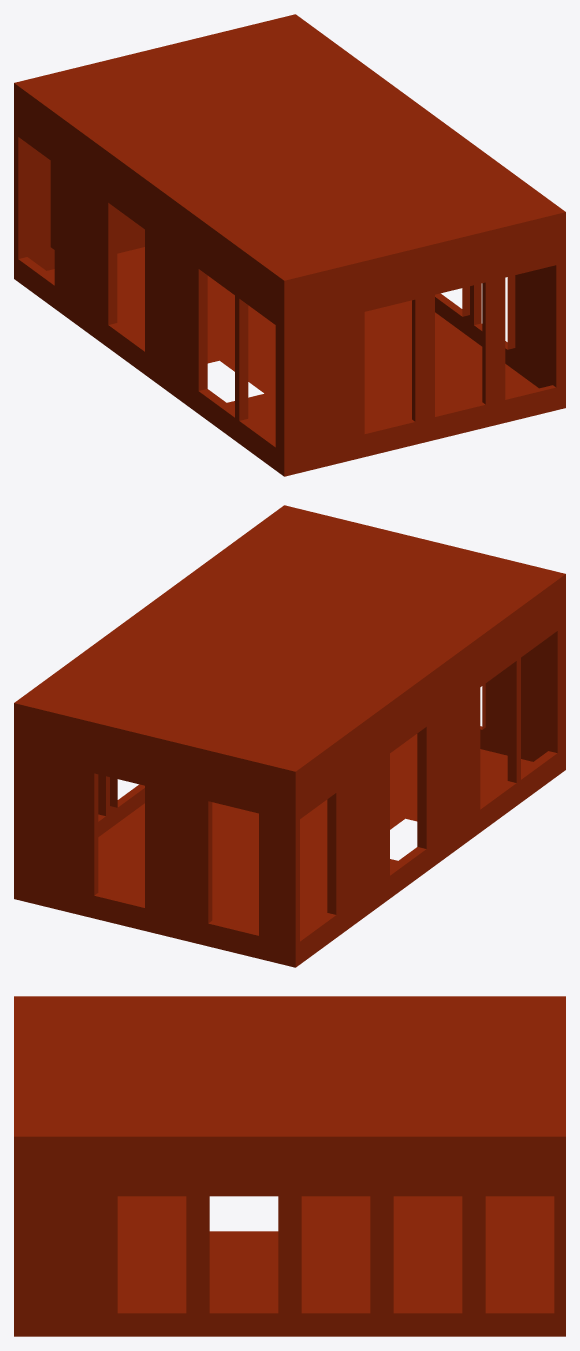
The model's file is SM_Bat1.fbx.
3 renders of one model, top to bottom at view 1: azimuth 30°, elevation 25°; view 2: azimuth 150°, elevation 25°; view 3: azimuth 270°, elevation 25°, orthographic. The views are drawn at different scales.
Visible parts, largest first — view 1: Bat1; view 2: Bat1; view 3: Bat1.
Boxes of the visible parts, x1,y1,x2,y2 form: Bat1: (14, 14, 565, 476); Bat1: (14, 505, 565, 967); Bat1: (14, 996, 565, 1336).
Size of the model in its own units: 301 by 200 by 500.
